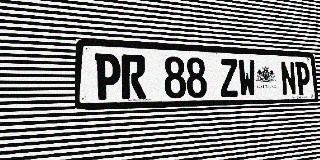8: (164, 56, 186, 98), (186, 57, 207, 98)
N: (280, 61, 297, 96)
P: (94, 53, 121, 100), (295, 62, 311, 95)
R: (121, 54, 146, 99)
W: (238, 59, 256, 97)
Z: (219, 58, 239, 97)
